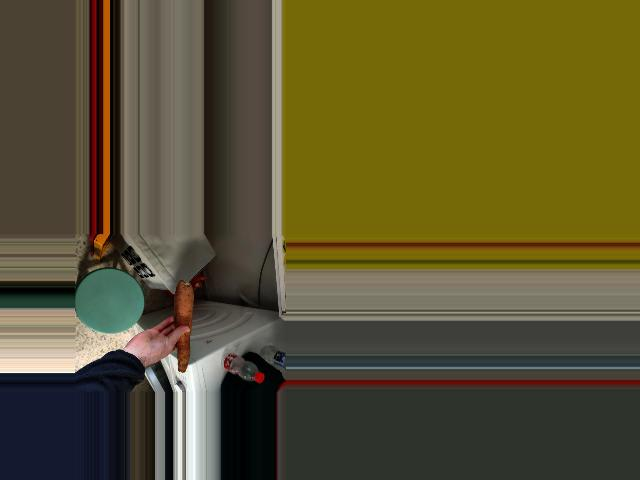sweet_potato: (166, 283, 195, 373)
